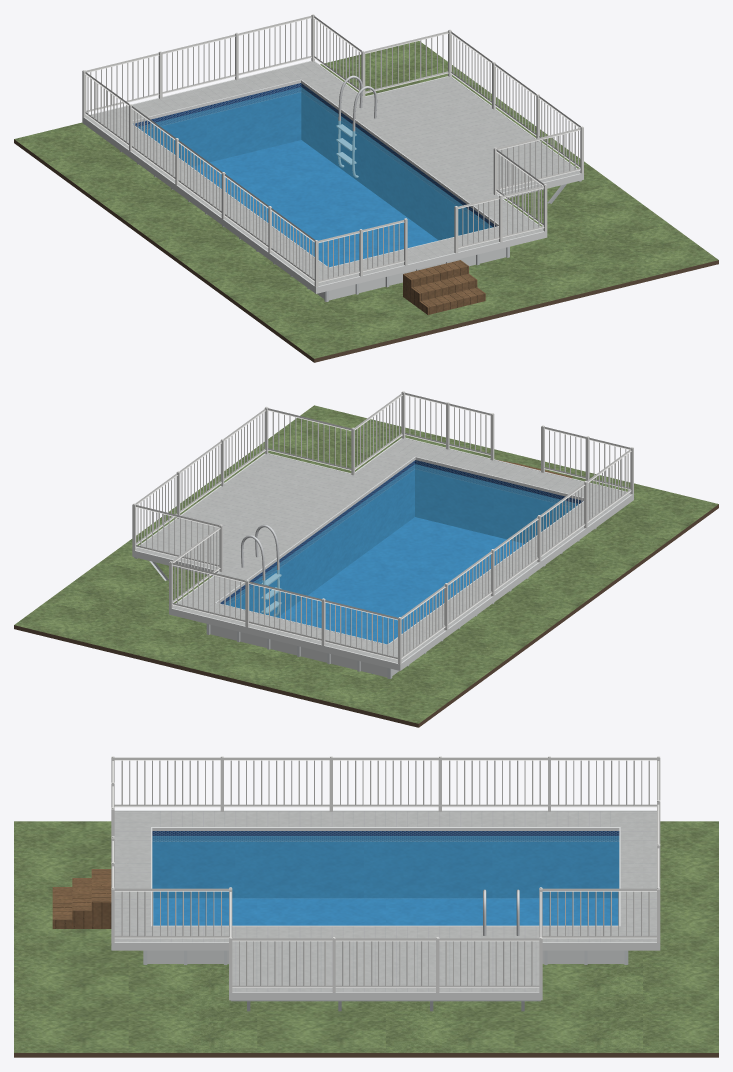
Rendered from kayak-pool-12x24-white-t-rec-fence.33994e952a.glb.
The picture shows the model from 3 angles, top to bottom: view 1: azimuth 30°, elevation 25°; view 2: azimuth 150°, elevation 25°; view 3: azimuth 270°, elevation 25°; orthographic projection. The views are drawn at different scales.
Visible parts, largest first — view 1: ground, water, deck, fence, liner_wall, liner_floor, fascia, soil, steps, wall, steel; view 2: ground, water, deck, fence, liner_wall, liner_floor, fascia, soil, wall, steel; view 3: ground, water, deck, liner_wall, fence, liner_floor, fascia, soil, steps, wall, stud.
Boxes of the visible parts, bbox=[...] form: ground: bbox=[14, 41, 718, 358]; water: bbox=[138, 87, 492, 267]; deck: bbox=[85, 61, 580, 285]; fence: bbox=[82, 14, 583, 287]; liner_wall: bbox=[133, 83, 496, 240]; liner_floor: bbox=[192, 140, 438, 267]; fascia: bbox=[82, 60, 583, 293]; soil: bbox=[14, 139, 718, 362]; steps: bbox=[403, 260, 485, 314]; wall: bbox=[317, 247, 506, 300]; steel: bbox=[336, 75, 377, 177]; ground: bbox=[14, 405, 718, 723]; water: bbox=[225, 464, 577, 643]; deck: bbox=[136, 438, 630, 662]; fence: bbox=[132, 391, 633, 664]; liner_wall: bbox=[220, 460, 583, 617]; liner_floor: bbox=[278, 517, 524, 643]; fascia: bbox=[132, 437, 633, 670]; soil: bbox=[14, 504, 718, 727]; wall: bbox=[210, 624, 399, 677]; steel: bbox=[241, 524, 281, 616]; ground: bbox=[14, 821, 718, 1052]; water: bbox=[152, 836, 619, 925]; deck: bbox=[111, 811, 656, 991]; liner_wall: bbox=[152, 831, 619, 898]; fence: bbox=[111, 756, 660, 992]; liner_floor: bbox=[153, 898, 618, 925]; fascia: bbox=[111, 810, 660, 1000]; soil: bbox=[14, 1053, 718, 1057]; steps: bbox=[52, 869, 111, 928]; wall: bbox=[147, 950, 624, 963]; stud: bbox=[230, 1000, 540, 1011].
Bounding box in the file's own units: 8.53 × 2.15 × 10.97.
Materials: 13 (5 with a texture image).
